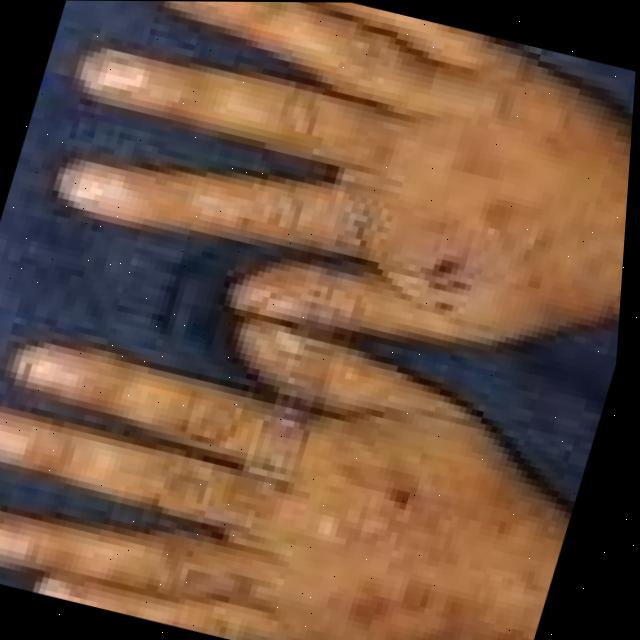Melasma: (399, 72, 635, 351), (326, 449, 551, 640)
